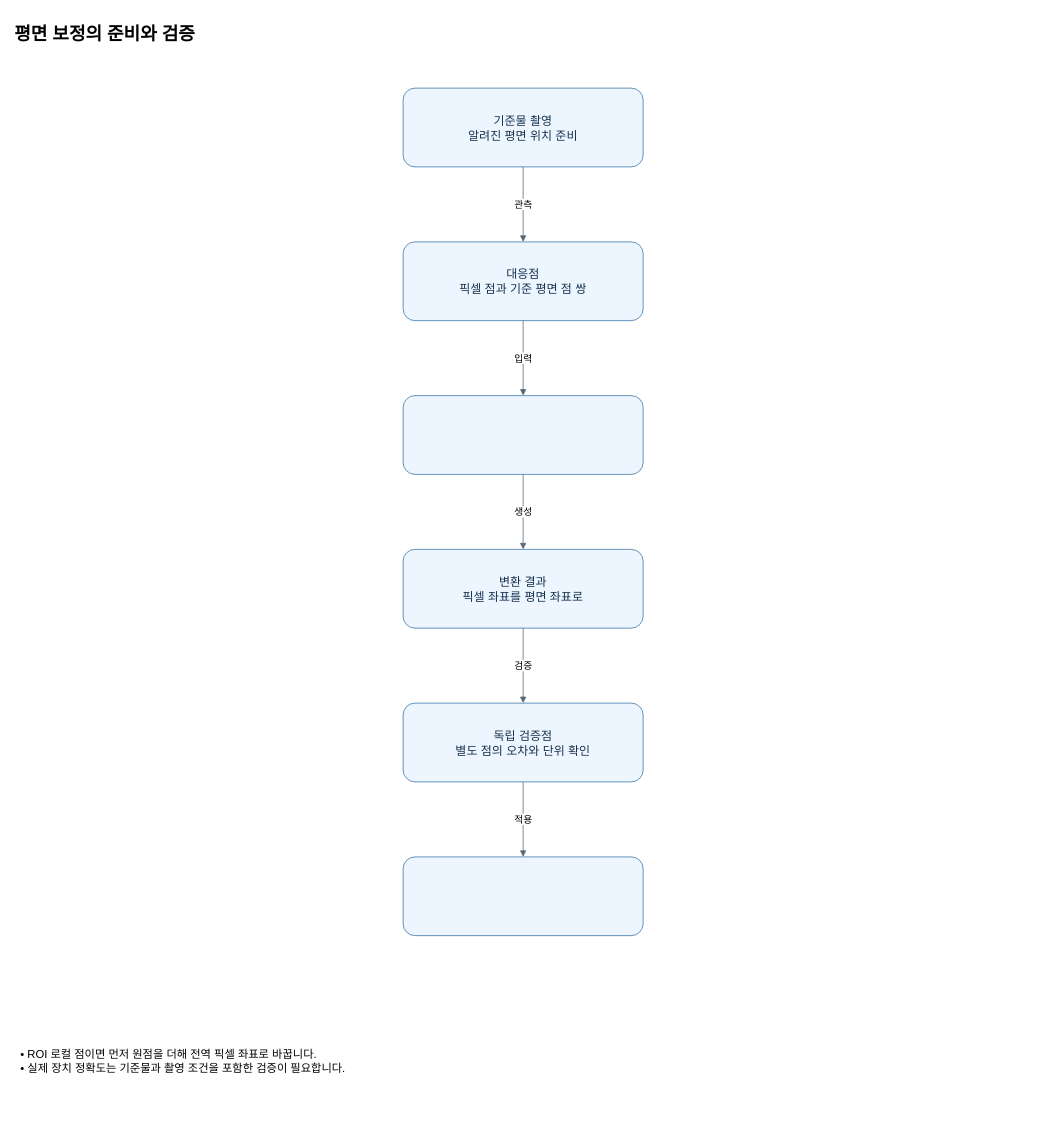
The diagram is 1046 pixels wide and 1139 high, and some of its shapes have lost their labels. Here are the shapes that lost their labels. From the top down, the centre of each, then its label:
At (x=522, y=434): "보정 계산 선택한 모델과 입력 조건".
At (x=522, y=896): "현장 적용 촬영 조건과 기준 관리".
